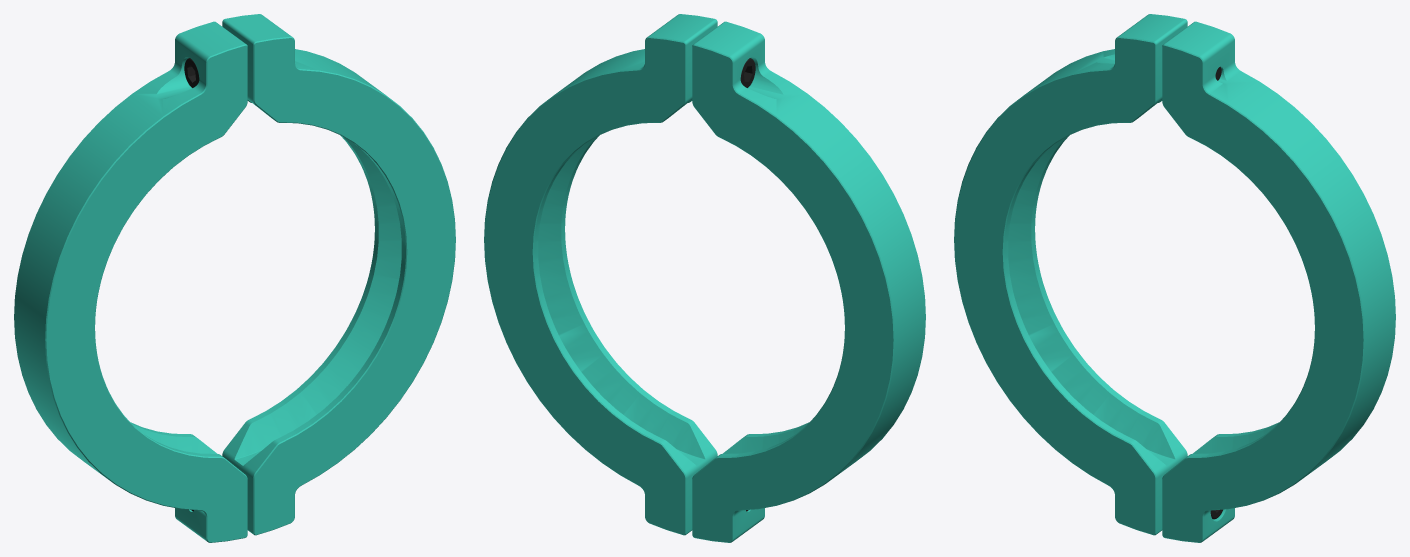
3 views of the same model, side by side, from view 1: azimuth 30°, elevation 25°; view 2: azimuth 150°, elevation 25°; view 3: azimuth 330°, elevation 25° (orthographic).
Parts seen in each view (by area): view 1: C148.001; view 2: C148.001; view 3: C148.001.
Part boxes in pixels (x1,y1,x2,y2): C148.001: (14, 14, 455, 542); C148.001: (484, 14, 925, 542); C148.001: (954, 14, 1395, 542).
Bounding box in the file's own units: 0.148 × 0.17 × 0.02.
